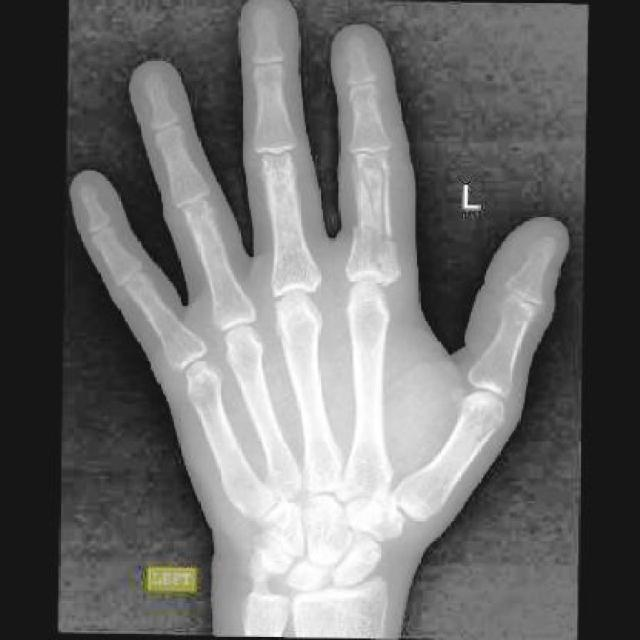Fracture: (346, 222, 397, 287)
